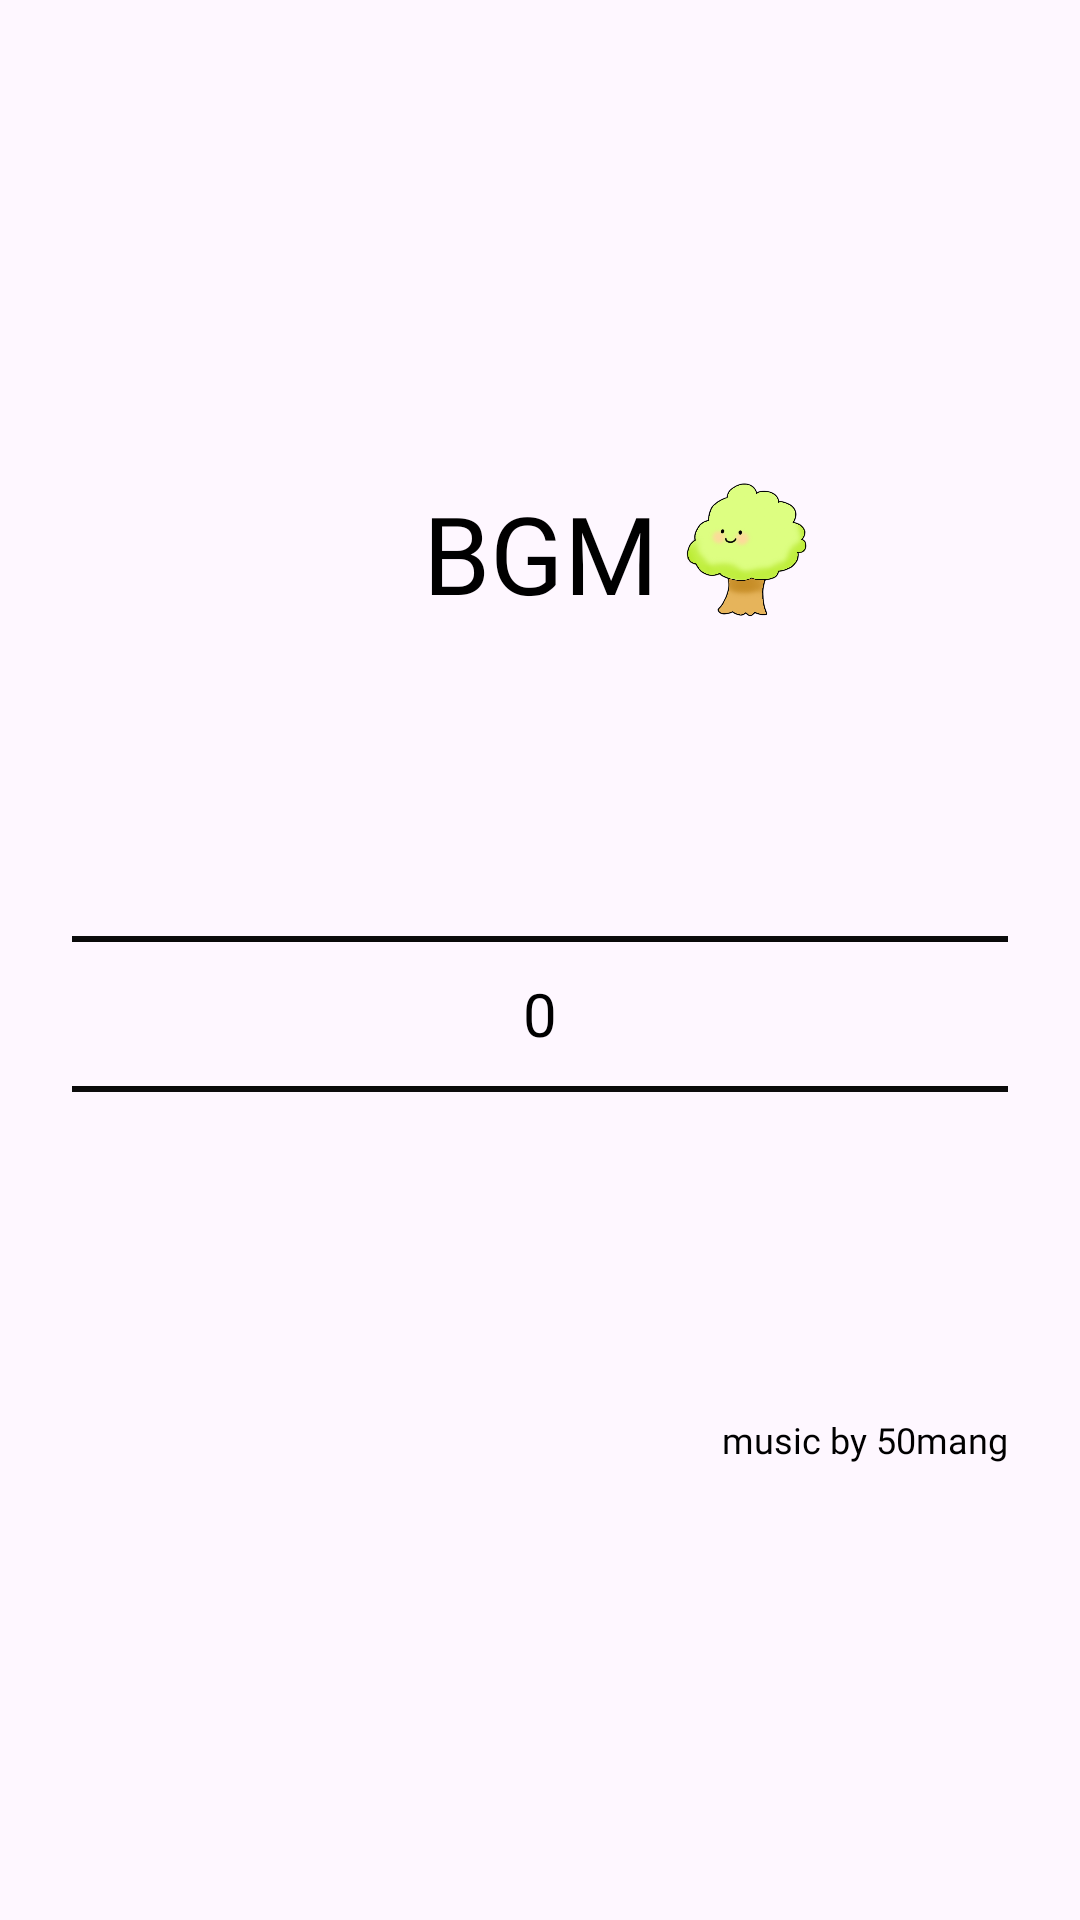

Screen size 1080 x 1920. Icon name, then its box in pixels as detection(x1, y1, x2, y2):
tree: detection(687, 483, 807, 616)
